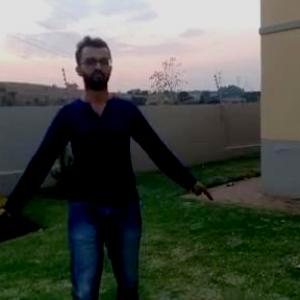land: (4, 44, 193, 290)
